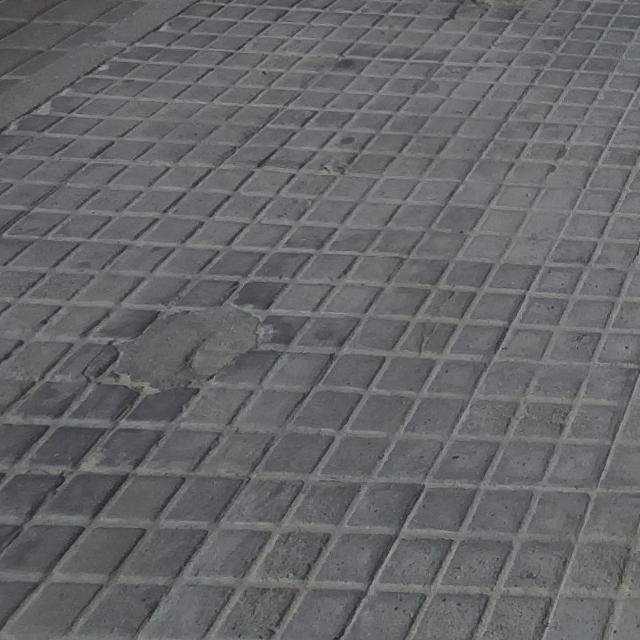calcada_quebrada: (79, 300, 275, 410), (427, 1, 503, 28)
